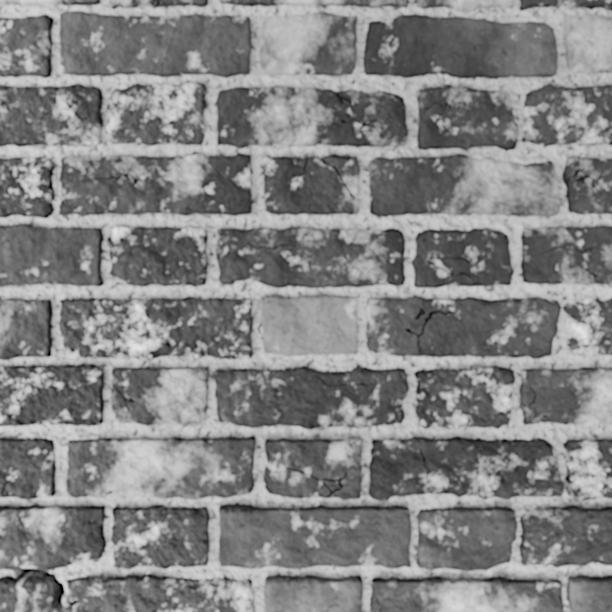brick: (60, 11, 250, 77), (219, 504, 410, 568), (364, 15, 557, 78), (369, 437, 563, 499), (214, 366, 408, 428), (59, 153, 250, 215), (59, 298, 252, 359), (66, 437, 254, 499), (369, 155, 560, 216), (217, 86, 407, 147), (366, 298, 560, 357), (216, 227, 404, 287), (65, 575, 253, 611), (371, 576, 562, 611), (0, 506, 105, 569), (417, 84, 517, 150), (417, 507, 516, 570), (0, 224, 102, 285), (0, 84, 102, 145), (0, 365, 103, 425), (415, 366, 514, 428), (111, 505, 208, 568), (107, 82, 205, 144), (260, 12, 356, 75), (264, 437, 361, 499), (412, 229, 513, 287), (260, 295, 357, 355), (107, 227, 206, 285), (111, 367, 208, 425), (520, 506, 611, 566), (522, 84, 611, 145), (264, 157, 357, 214), (520, 368, 611, 425), (521, 226, 611, 283), (264, 575, 362, 611), (0, 438, 55, 498), (0, 15, 52, 77), (0, 157, 53, 217), (0, 299, 51, 359), (564, 440, 611, 500), (564, 14, 611, 73), (563, 157, 611, 214), (563, 297, 611, 354), (0, 576, 55, 611), (567, 575, 611, 611), (220, 0, 407, 7), (327, 157, 359, 197), (418, 0, 512, 10), (520, 0, 611, 9), (0, 0, 98, 5), (110, 0, 158, 8), (160, 0, 207, 5)
crack: (1, 565, 80, 611), (285, 466, 348, 498), (315, 154, 356, 200), (65, 85, 87, 130), (37, 86, 61, 125), (111, 383, 136, 417), (0, 470, 19, 497), (294, 156, 308, 182), (521, 387, 536, 409), (0, 56, 18, 65), (101, 489, 113, 498), (375, 597, 382, 611), (150, 0, 165, 5)
